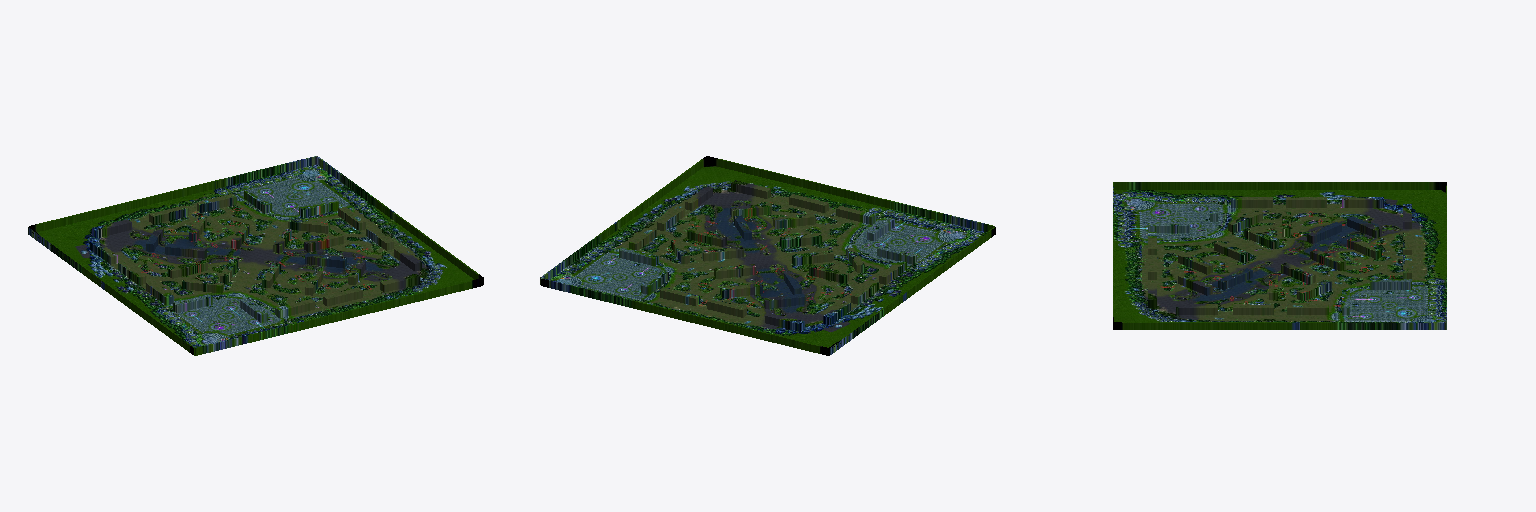
The picture shows the model from 3 angles: view 1: azimuth 30°, elevation 25°; view 2: azimuth 150°, elevation 25°; view 3: azimuth 270°, elevation 25°; orthographic projection.
Visible parts, largest first — view 1: Plane.001_Plane.002; view 2: Plane.001_Plane.002; view 3: Plane.001_Plane.002.
Part boxes in pixels (bbox=[...]): Plane.001_Plane.002: bbox=[28, 156, 483, 355]; Plane.001_Plane.002: bbox=[540, 156, 995, 355]; Plane.001_Plane.002: bbox=[1113, 182, 1446, 329].
Size of the model in its own units: 404 by 10 by 404.
1 materials, 1 textured.